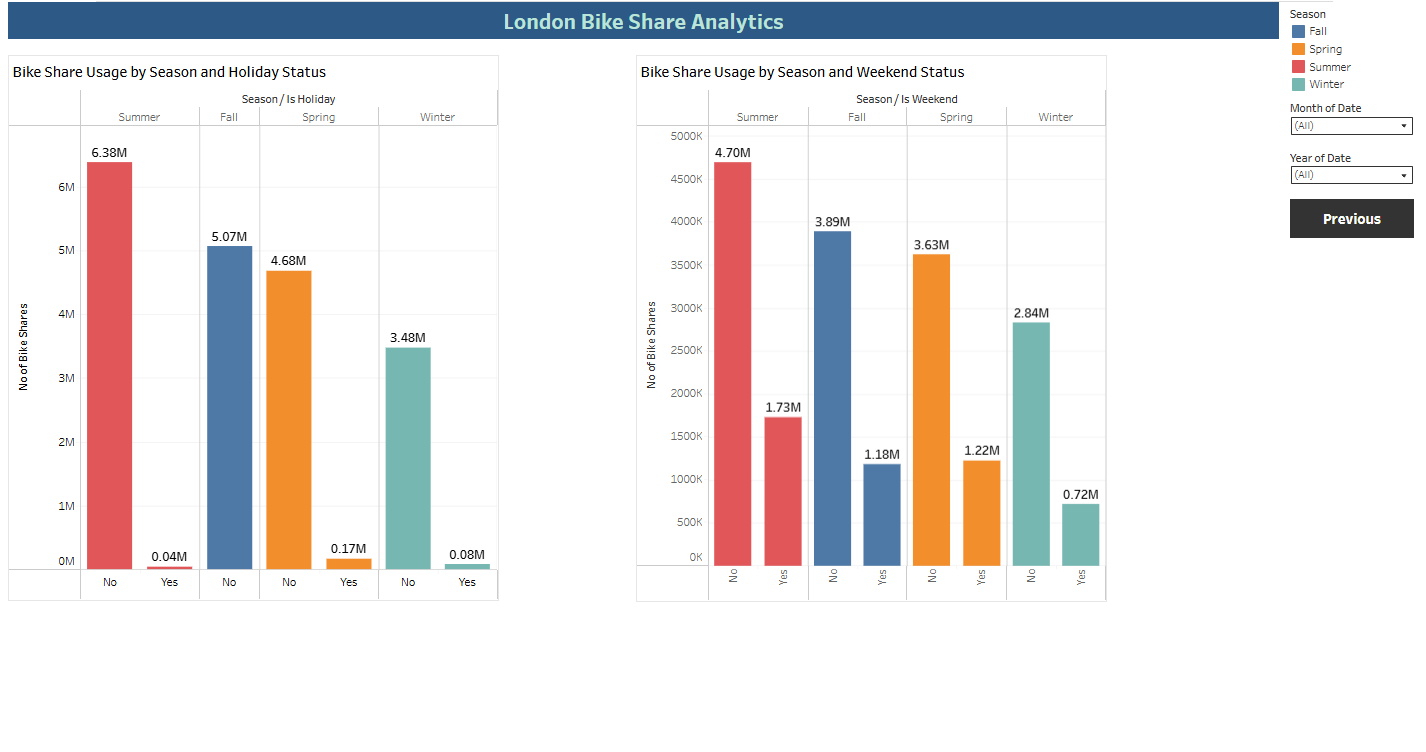

Layout of this report page (visuals, bound fields, positions):
{"tool":"tableau","page":{"name":"D2","canvas":[1600,900],"ordinal":1},"visuals":[{"type":"text","box":[0,0,1439,42]},{"type":"legend","title":"Bike Count Seasons/Holidays","param":"[federated.1df8pt31yvw7rj17k0rrv104sorb].[none:season:nk]","box":[1447,0,149,107]},{"type":"worksheet","title":"Sheet 9","mark":"Automatic","box":[5,46,168,111]},{"type":"worksheet","title":"Bike Count Seasons/Holidays","mark":"Automatic","rows":["Count of bike shares"],"cols":["season","is_holiday"],"box":[266,53,581,618]},{"type":"worksheet","title":"Bike Count Seasons/Weekends","mark":"Automatic","rows":["Count of bike shares"],"cols":["season","is_weekend"],"box":[864,53,533,619]},{"type":"filter","title":"Bike Count Seasons/Holidays","param":"[federated.1df8pt31yvw7rj17k0rrv104sorb].[mn:date:ok]","box":[1447,107,149,55]},{"type":"filter","title":"Bike Count Seasons/Holidays","param":"[federated.1df8pt31yvw7rj17k0rrv104sorb].[yr:date:ok]","box":[1447,162,149,55]},{"type":"dashboard-object","box":[1447,217,149,52]}]}

Visuals, with their boxes on the page's 1600x900 design canvas (x1, y1, x2, y2). These are canvas units, not pixel positions in the 1426x752 screenshot, which may show the page scaled, cropped or inside an application window:
text: Rect(0, 0, 1439, 42)
"Bike Count Seasons/Holidays" legend: Rect(1447, 0, 1596, 107)
"Sheet 9" worksheet: Rect(5, 46, 173, 157)
"Bike Count Seasons/Holidays" worksheet: Rect(266, 53, 847, 671)
"Bike Count Seasons/Weekends" worksheet: Rect(864, 53, 1397, 672)
"Bike Count Seasons/Holidays" filter: Rect(1447, 107, 1596, 162)
"Bike Count Seasons/Holidays" filter: Rect(1447, 162, 1596, 217)
dashboard-object: Rect(1447, 217, 1596, 269)
